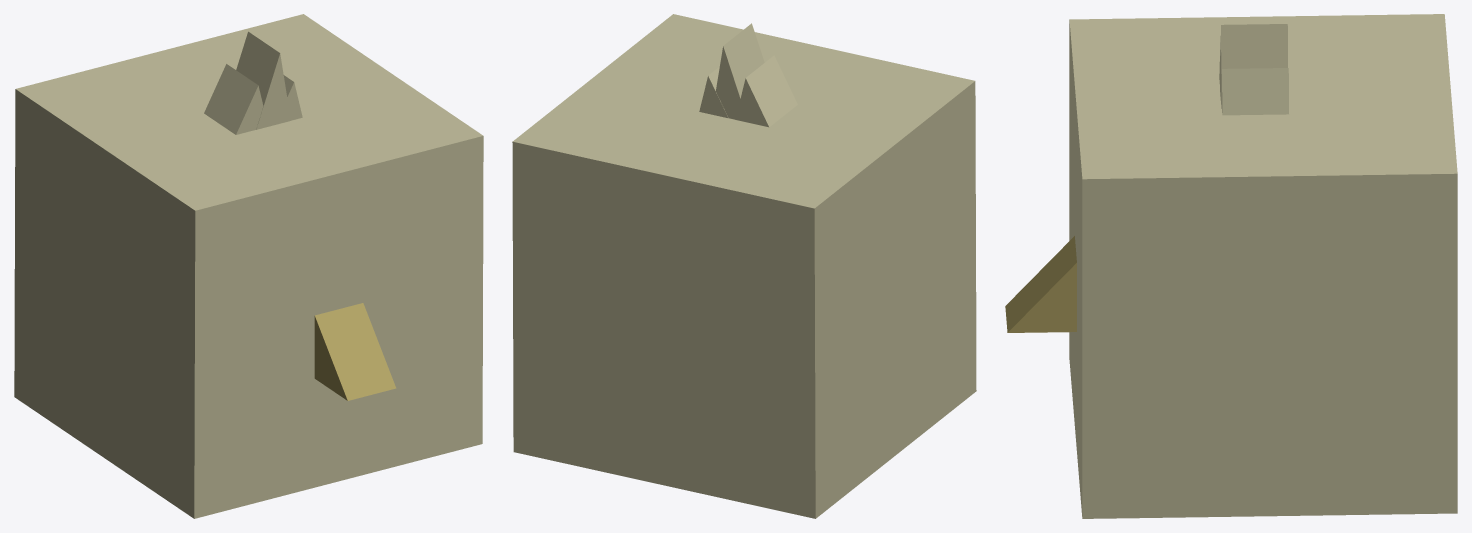
File: BoneDummy_Head.fbx
The picture shows the model from 3 angles, left to right: view 1: azimuth 30°, elevation 25°; view 2: azimuth 150°, elevation 25°; view 3: azimuth 270°, elevation 25°; orthographic projection. The views are drawn at different scales.
Parts seen in each view (by area): view 1: Head; view 2: Head; view 3: Head.
Part boxes in pixels (<box>): Head: <box>14,14,483,518</box>; Head: <box>512,14,976,518</box>; Head: <box>1005,14,1457,518</box>.
Bounding box in the file's own units: 207 × 246 × 241.
